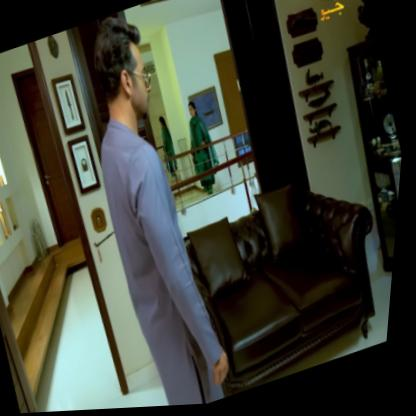Sofa: (158, 165, 404, 407)
